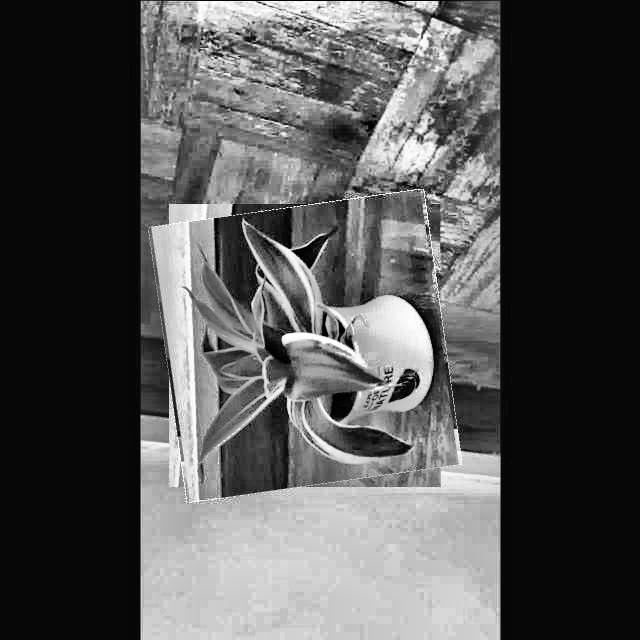plants: (156, 197, 452, 493)
